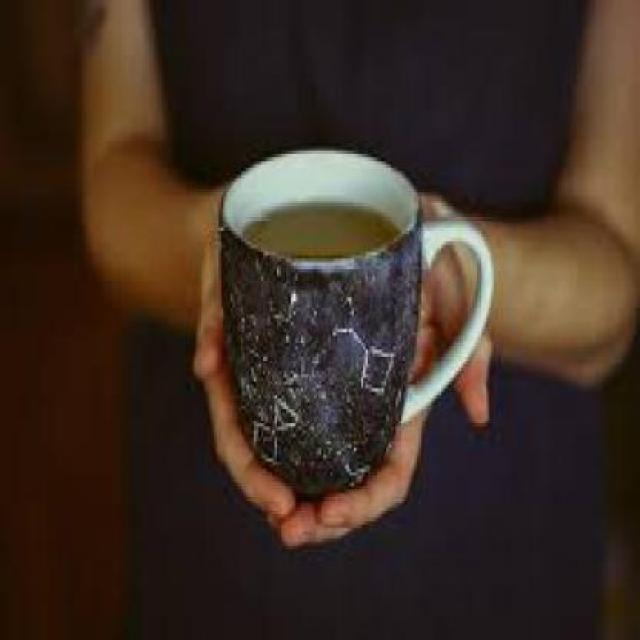cup: (214, 134, 495, 508)
